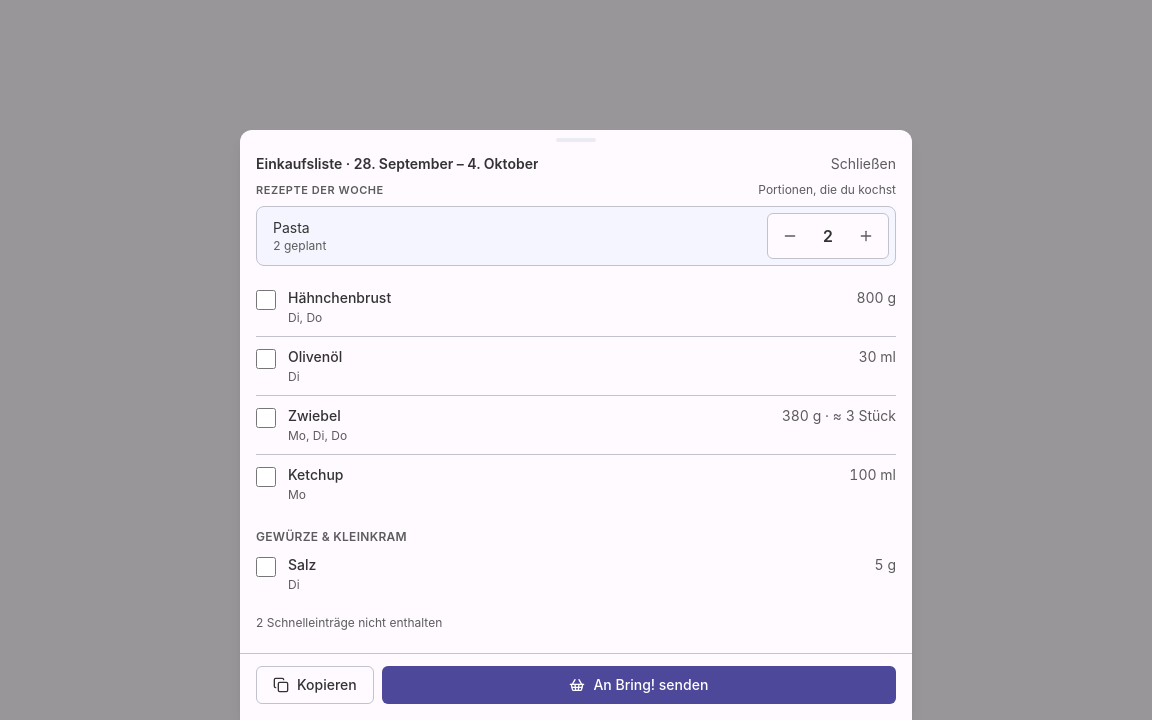
Test case: GroceryListSheet › Rezepte der Woche › keeps the ticks when the portions change
Click the checkbox named "Olivenöl schon da" at (266, 359), box [256,349,276,369]
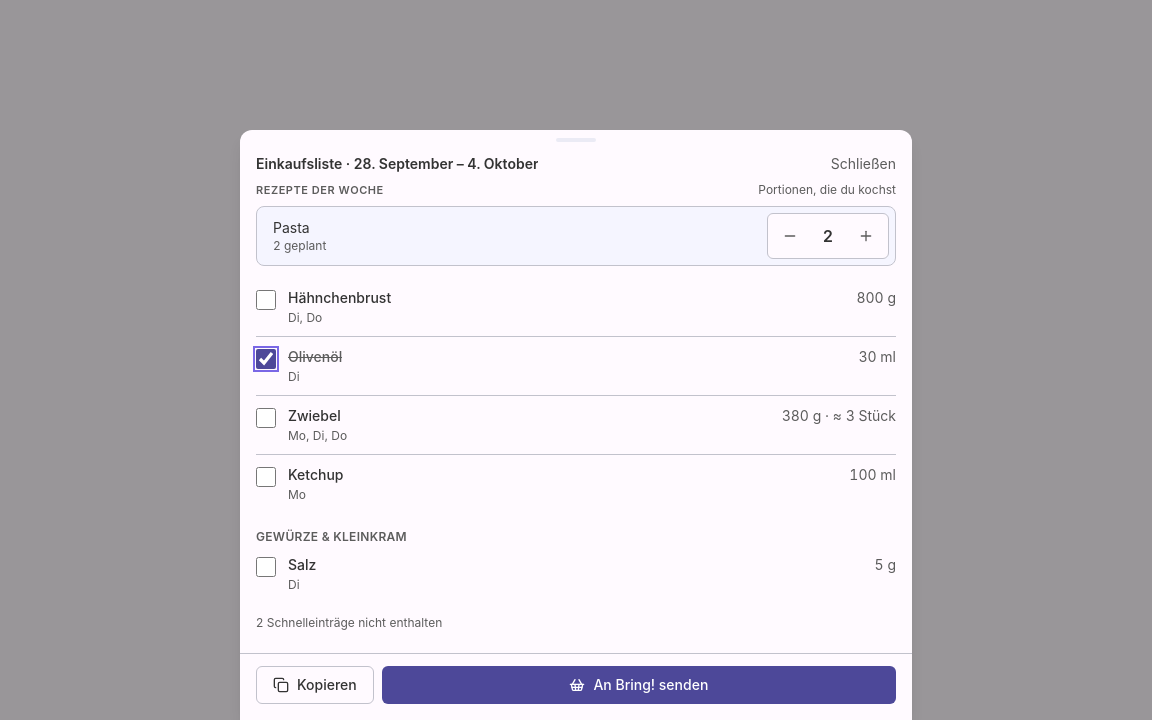
Click the button named "Pasta: eine Portion mehr" at (866, 236), box [844,214,888,258]
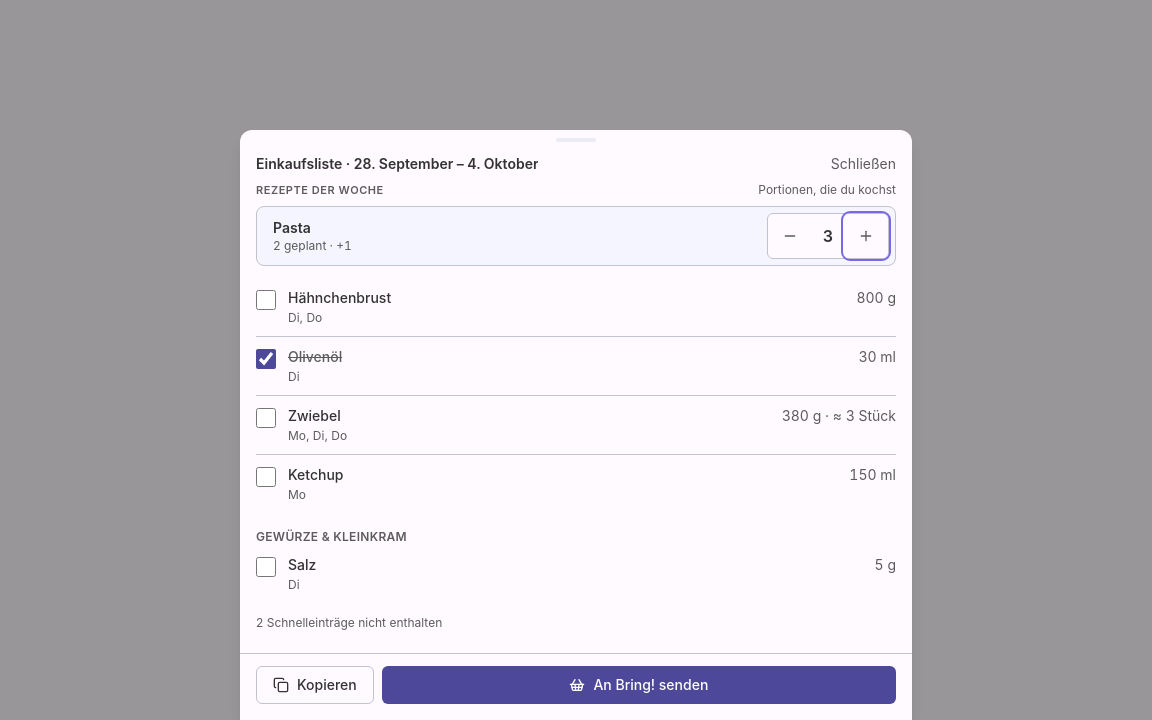
Check: the checkbox named "Olivenöl schon da" is checked, box [256,349,276,369]
Check: the text "150 ml" is shown, box [849,465,896,485]
